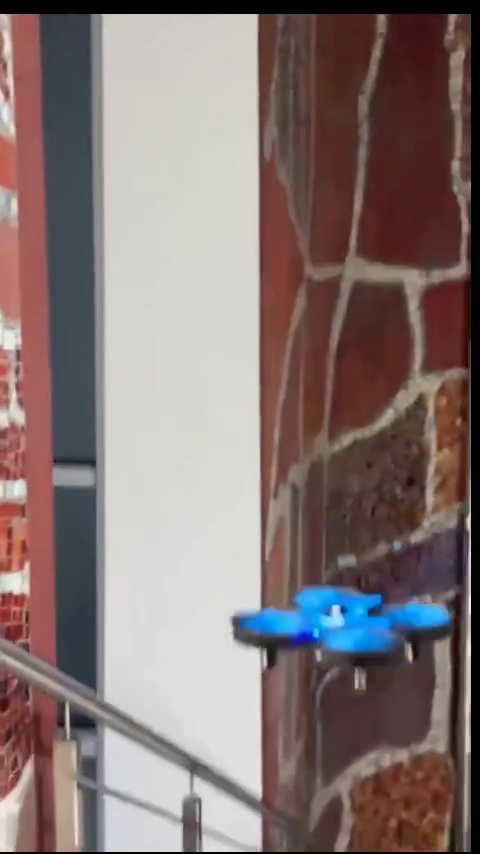drone: (237, 587, 451, 689)
